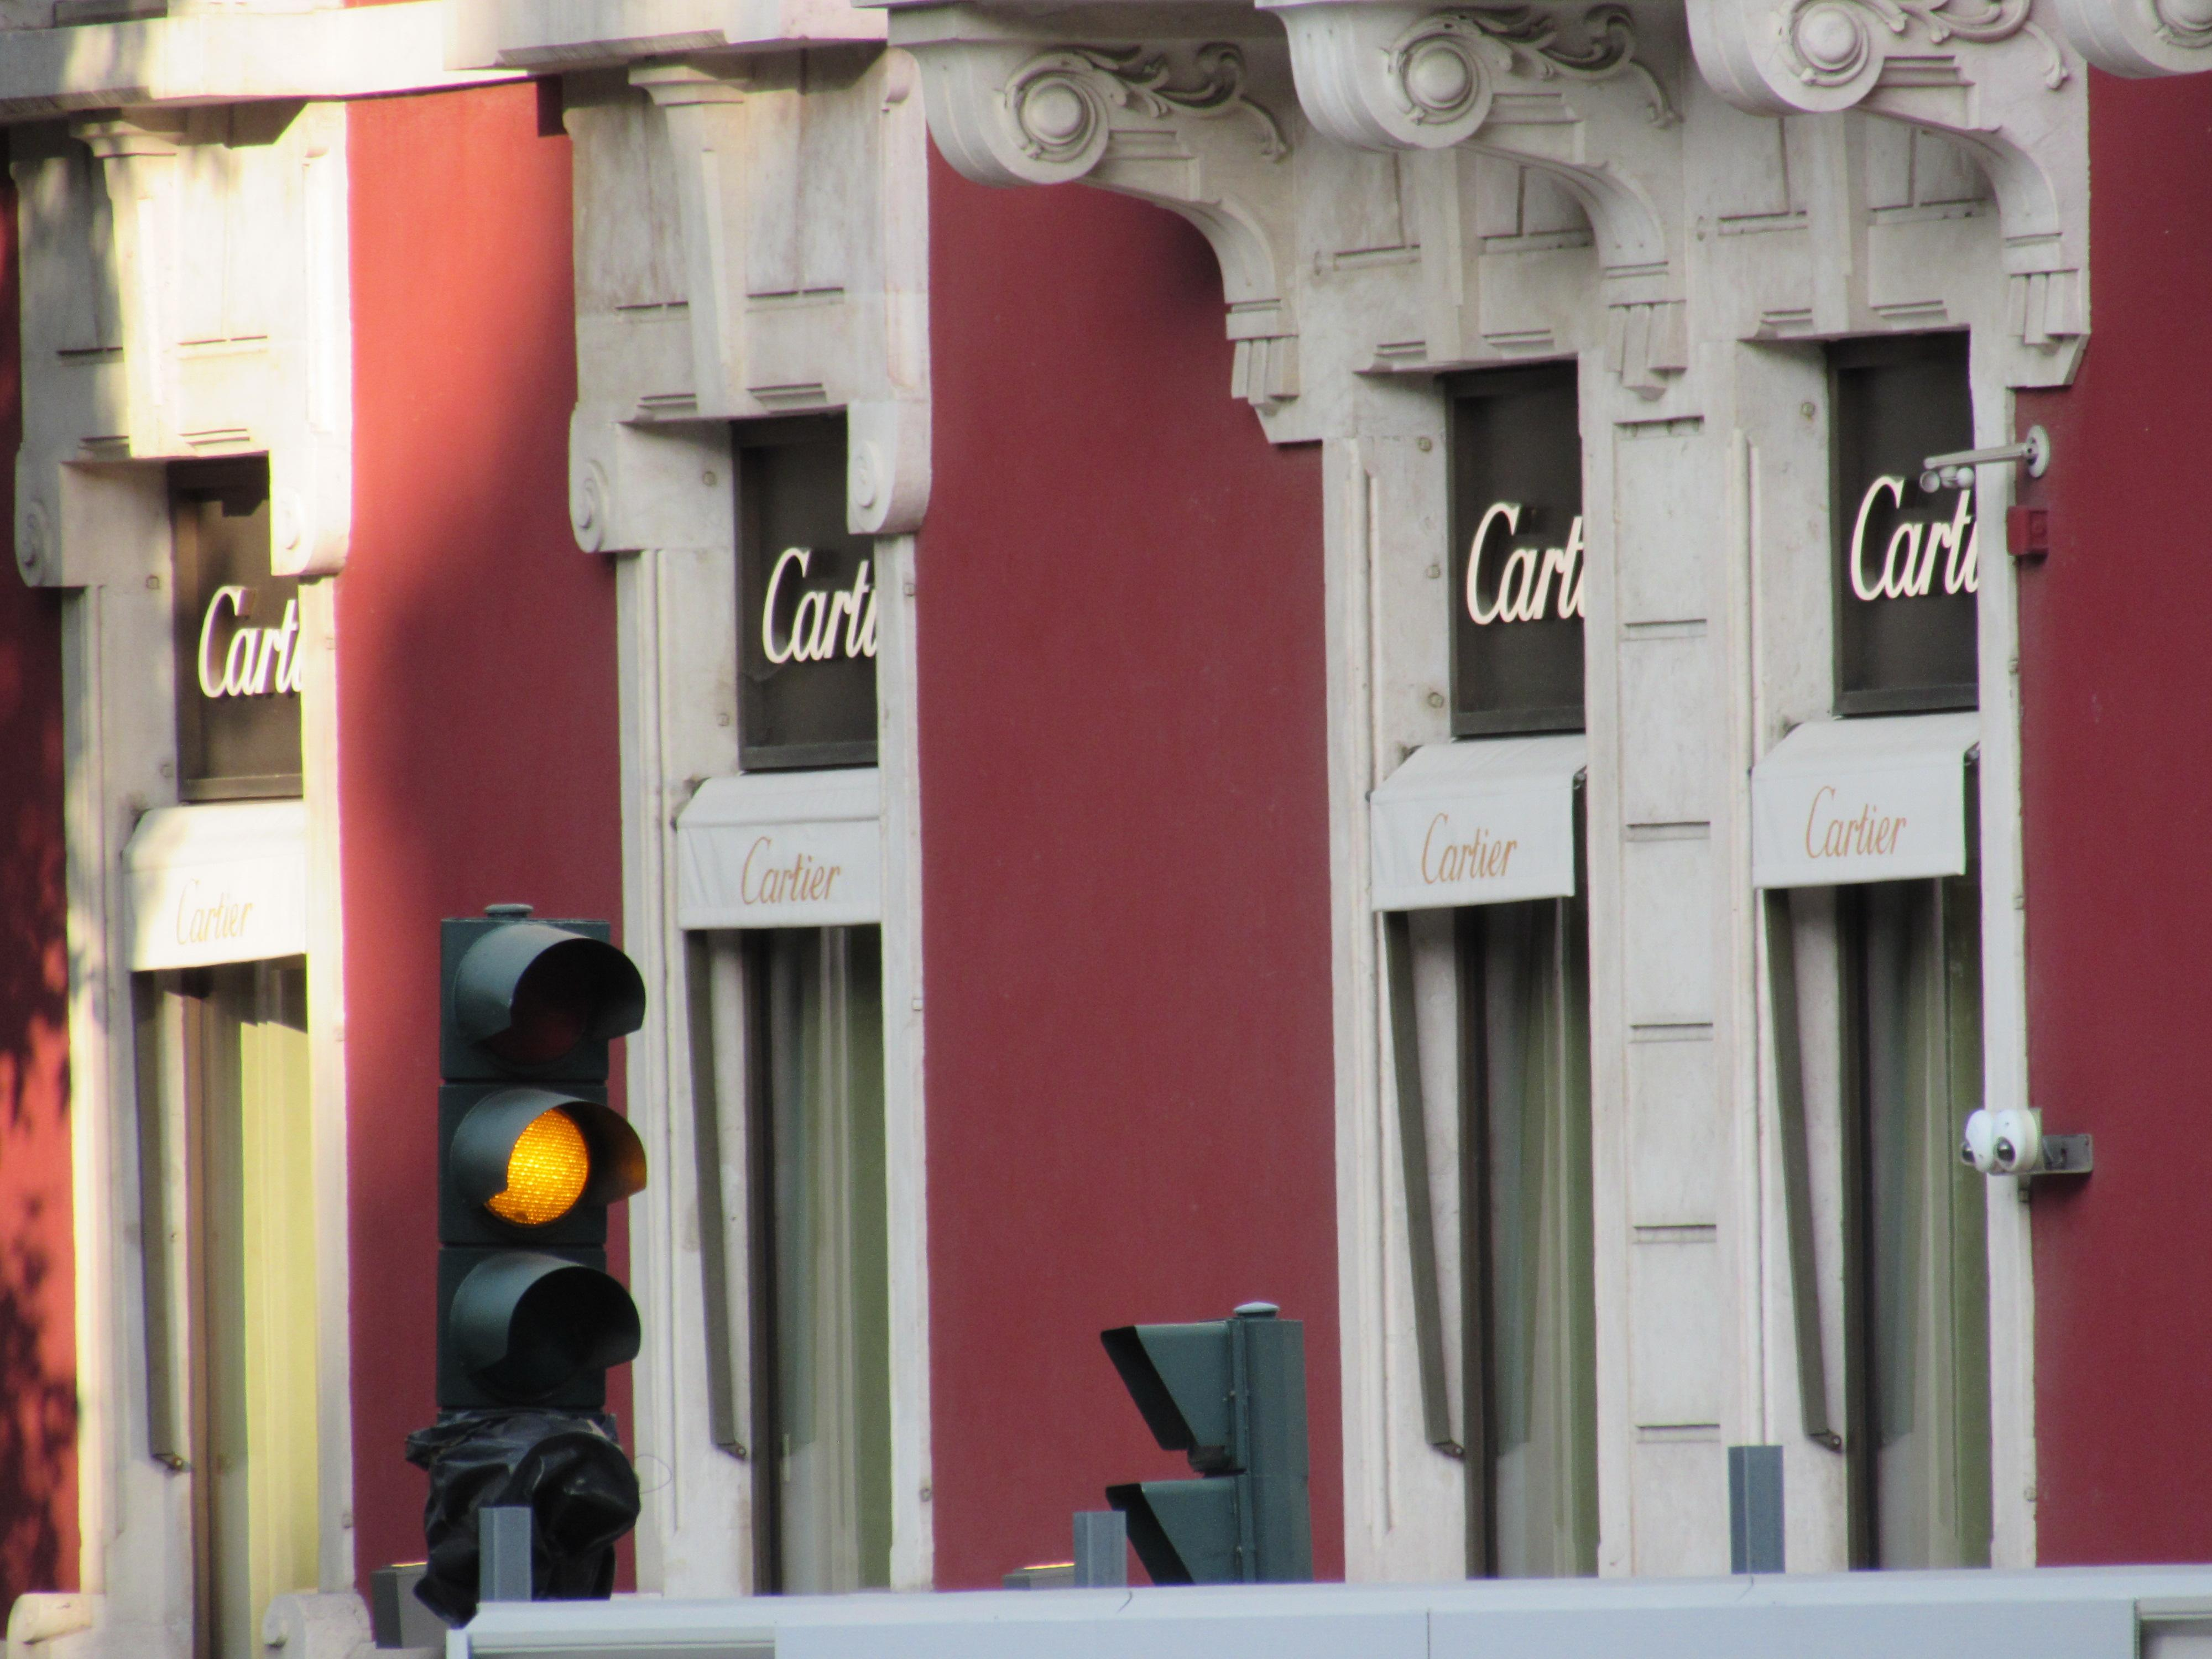yellow_light: (435, 917, 648, 1408)
